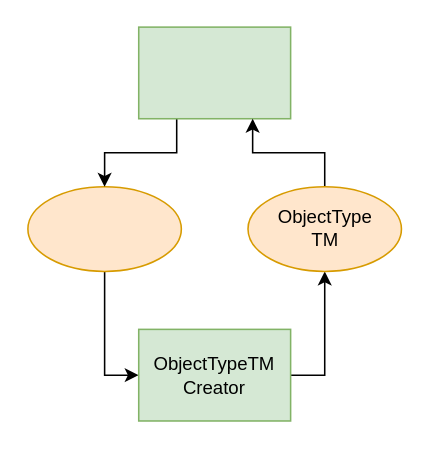
Some shapes in this 428 by 450 pixel diagram are drawn without their labels. The centre of each missing label's shape, as x and y in pixels:
"IObjectType Data instance" goes at point 103,228.
"RazorTemplate Processor" goes at point 214,72.
